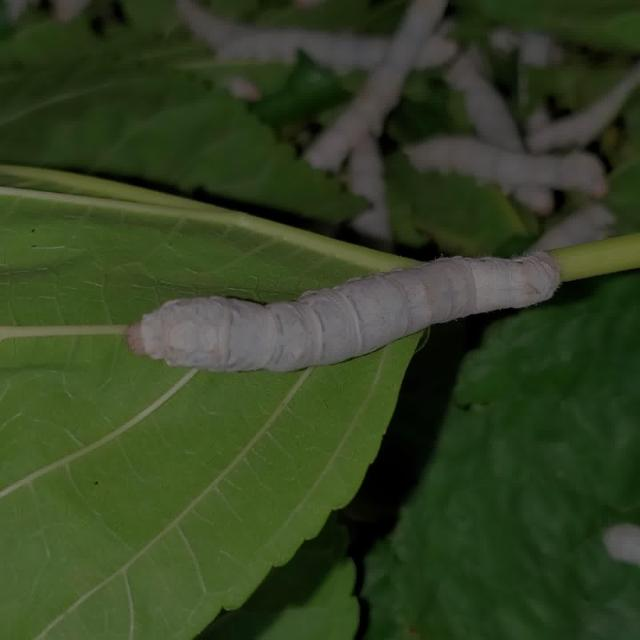Healthy: (123, 248, 561, 376)
